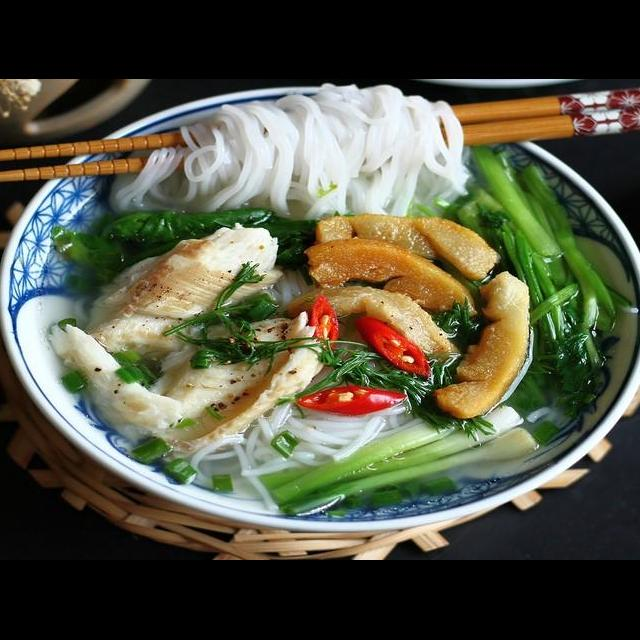bun: (94, 80, 483, 230), (184, 392, 447, 479)
bun ca: (0, 112, 640, 560)
ca: (103, 306, 335, 477), (71, 218, 292, 366), (43, 320, 187, 438)
